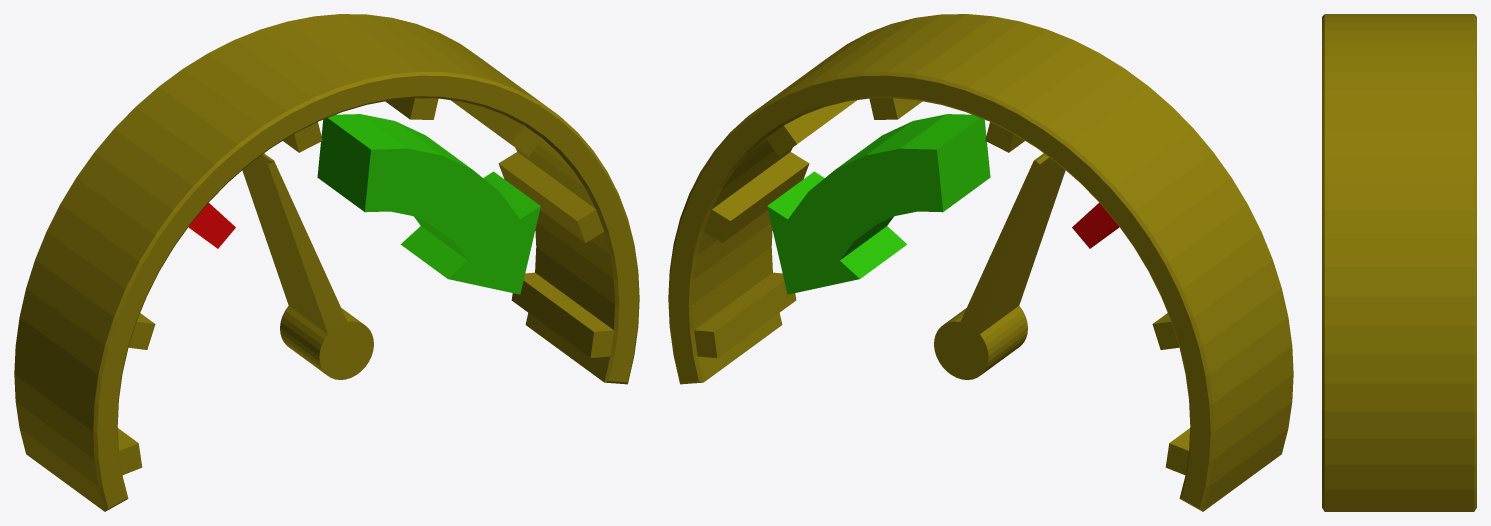
File: ShapeDrop_FinalAssets-SlowDownPowerUp-Final-Optimized.fbx
3 views of the same model, side by side, from view 1: azimuth 30°, elevation 25°; view 2: azimuth 150°, elevation 25°; view 3: azimuth 270°, elevation 25° (orthographic). The views are drawn at different scales.
Parts seen in each view (by area): view 1: SpeedDial, Arrow, Needle; view 2: SpeedDial, Arrow, Needle; view 3: SpeedDial.
Boxes of the visible parts, x1,y1,x2,y2 form: SpeedDial: (14, 14, 639, 511); Arrow: (317, 114, 540, 294); Needle: (242, 153, 373, 379); SpeedDial: (668, 14, 1293, 511); Arrow: (767, 114, 990, 294); Needle: (934, 153, 1065, 379); SpeedDial: (1322, 14, 1476, 511).
Bounding box in the file's own units: 100 × 64.51 × 25.92.
